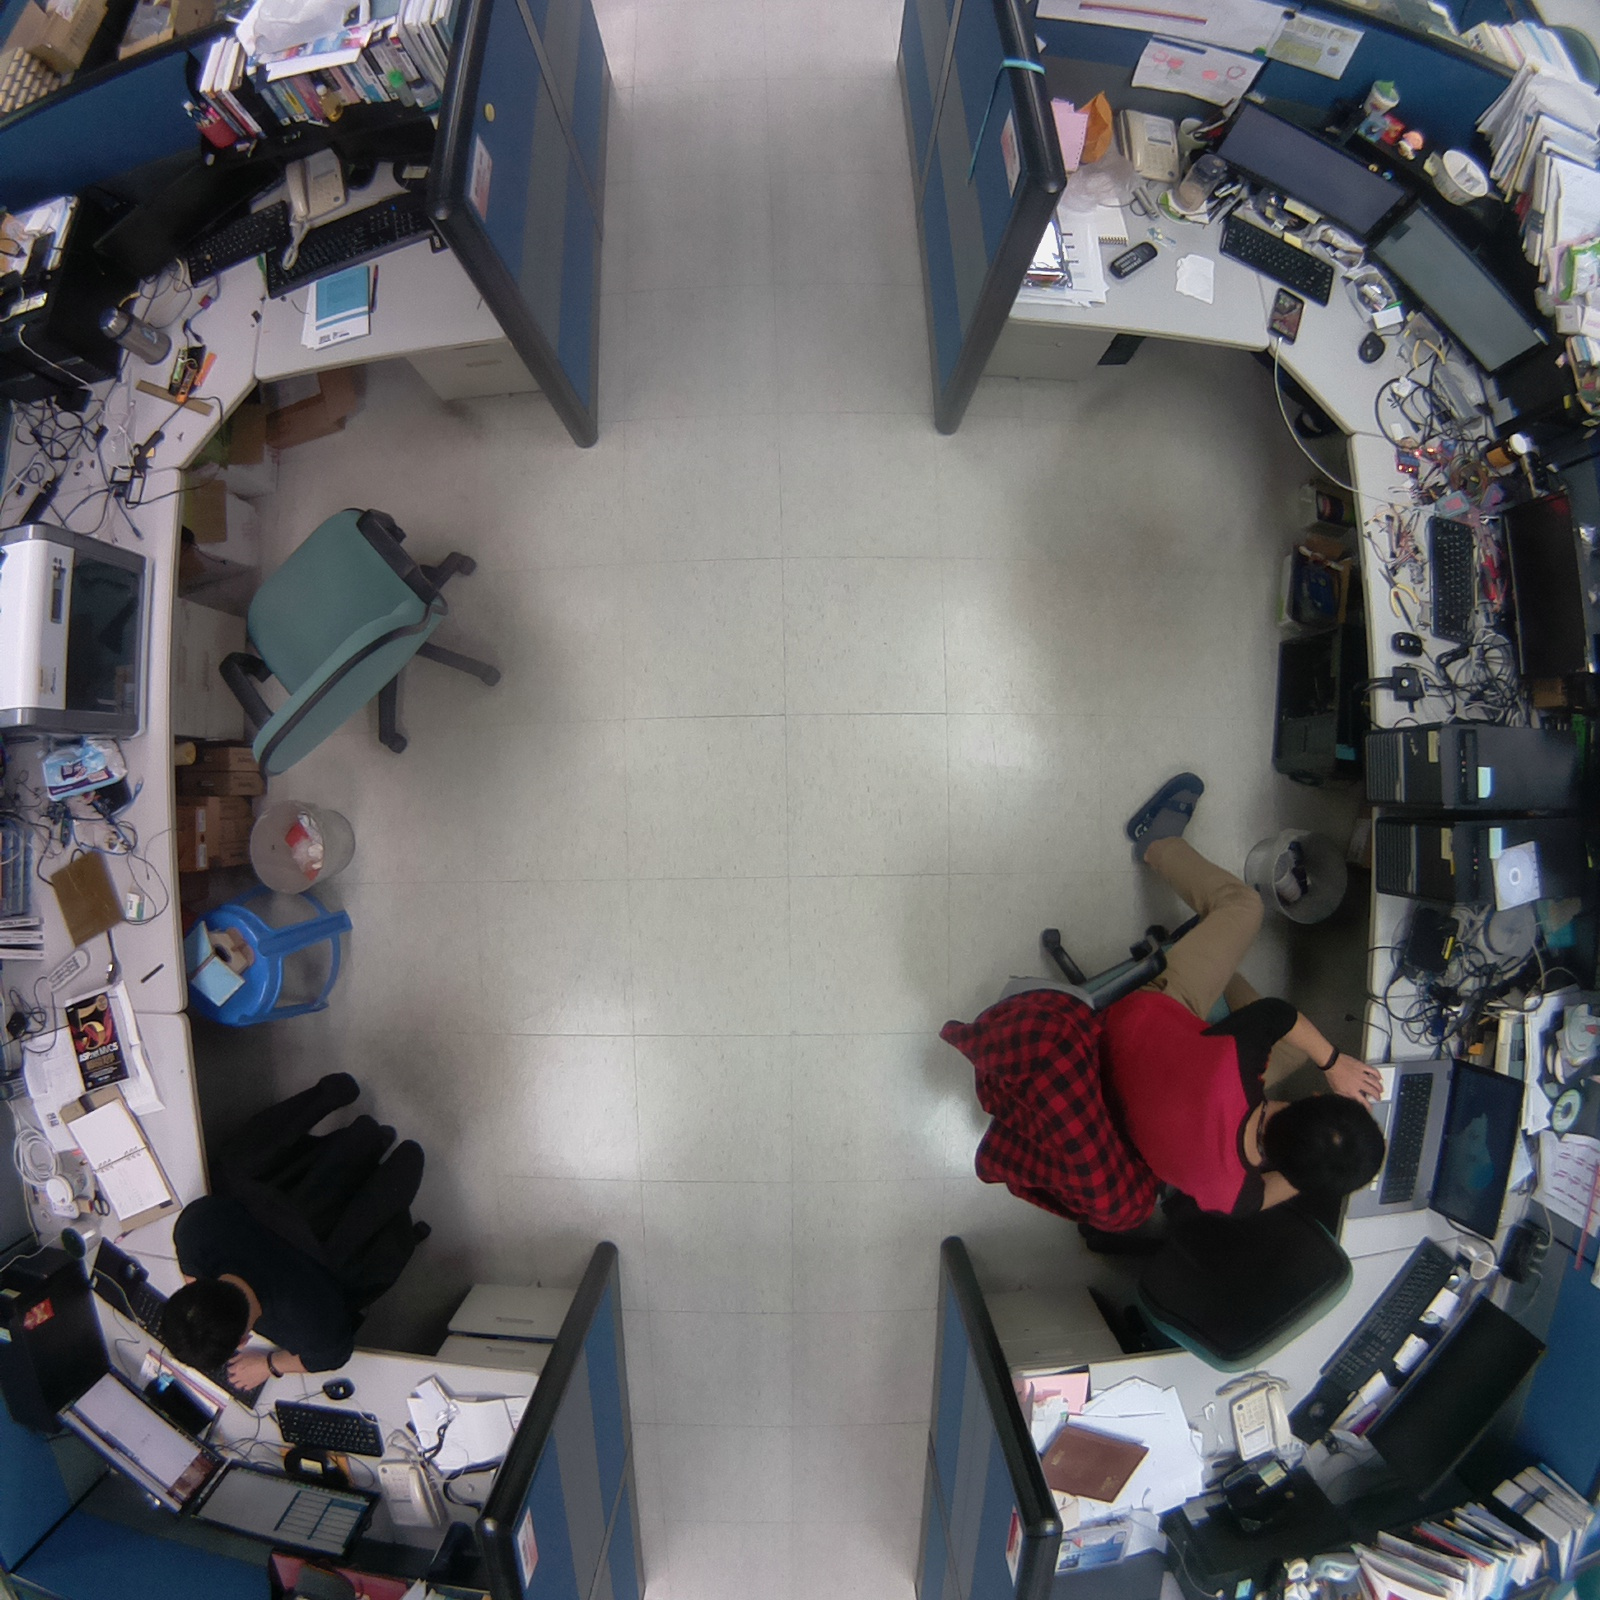chair: (212, 473, 532, 796), (1076, 1204, 1368, 1399)
head: (1251, 1091, 1391, 1202), (153, 1274, 257, 1370)
sitting: (917, 783, 1404, 1245), (145, 1045, 458, 1393)
